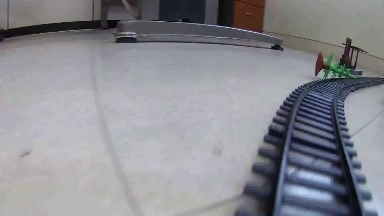tree: (313, 51, 360, 79)
